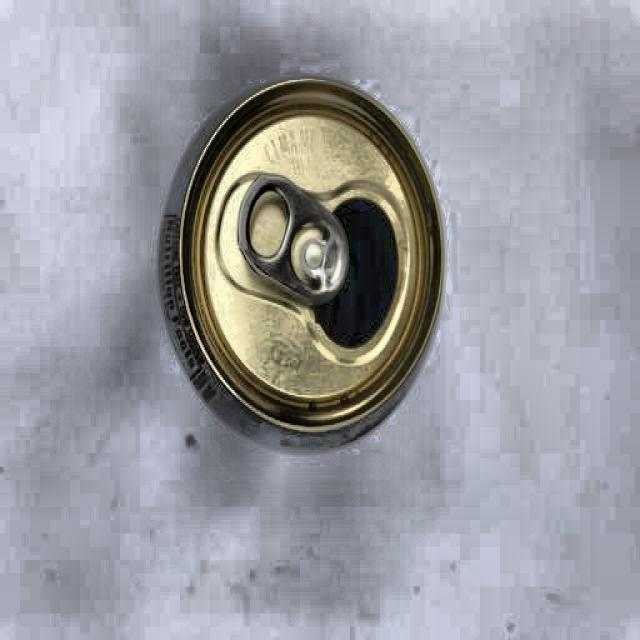metal: (166, 78, 447, 447)
